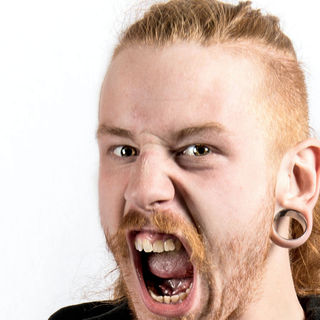eye: (176, 138, 224, 163), (101, 140, 143, 164)
